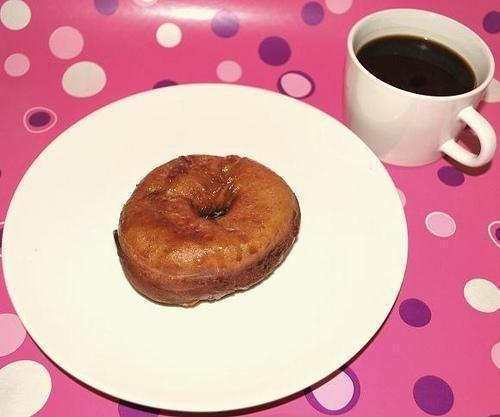cup-handle: (341, 5, 494, 166)
